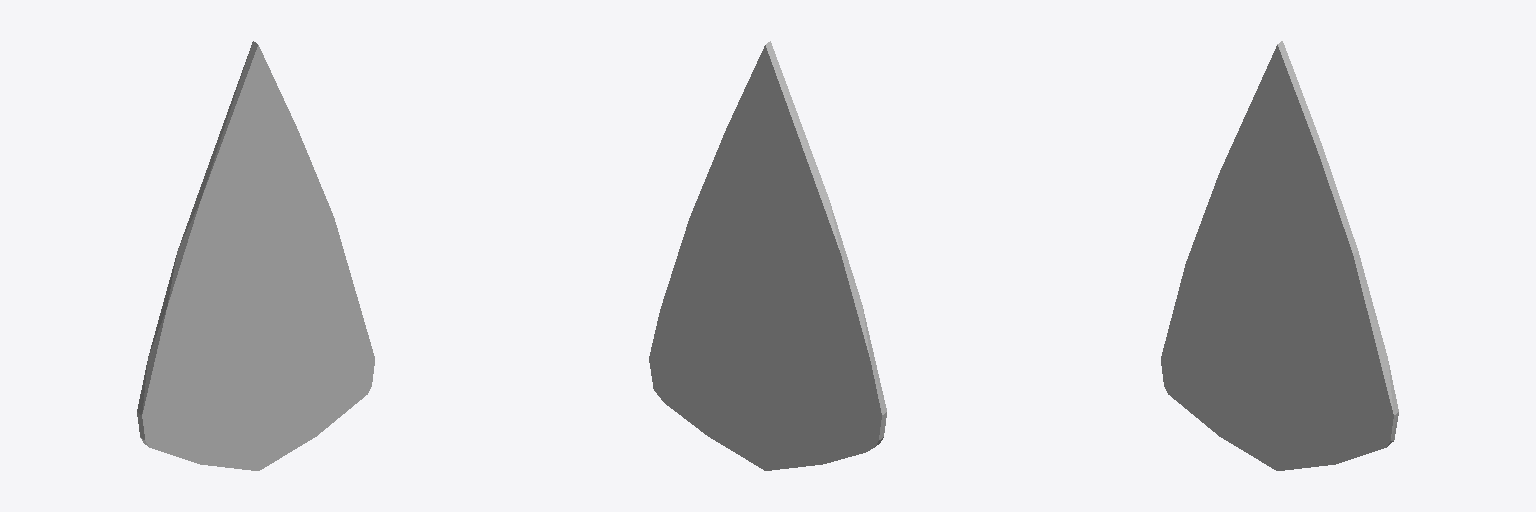
File: trowel_blade.obj
3 renders of one model, left to right at view 1: azimuth 30°, elevation 25°; view 2: azimuth 150°, elevation 25°; view 3: azimuth 330°, elevation 25°, orthographic.
Parts seen in each view (by area): view 1: trowel; view 2: trowel; view 3: trowel.
Part boxes in pixels (bbox=[...]): trowel: bbox=[137, 41, 374, 470]; trowel: bbox=[649, 41, 886, 470]; trowel: bbox=[1161, 41, 1398, 470].
Bounding box in the file's own units: 1.41 × 2.46 × 0.0582.